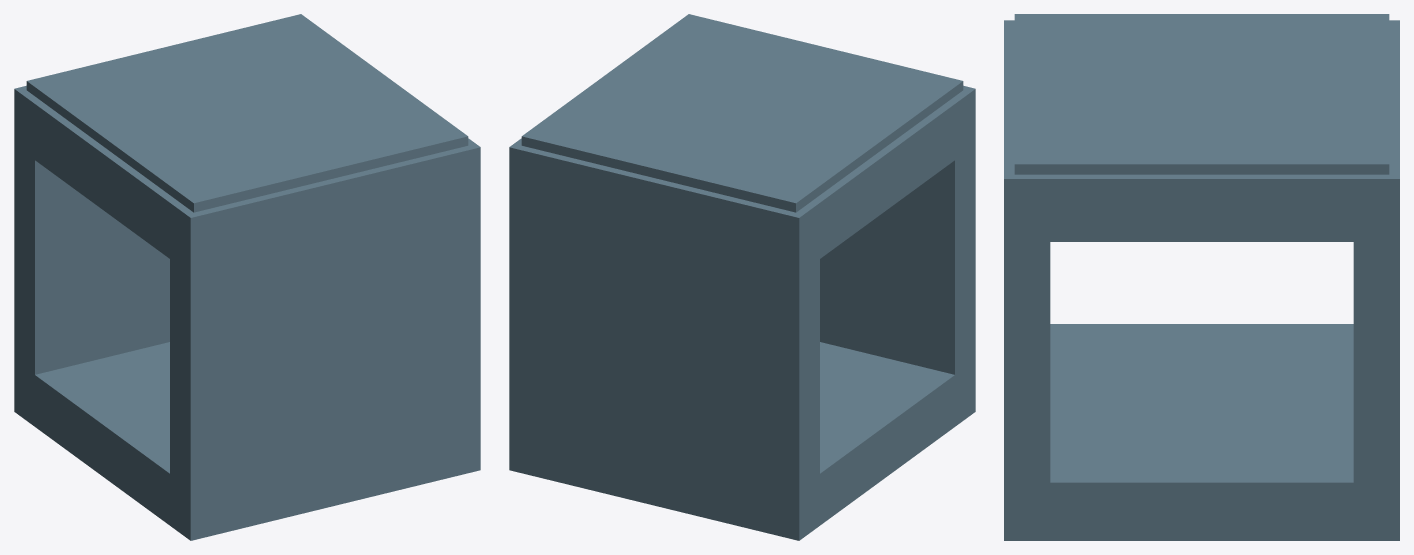
Rendered from Box_Converter.fbx.
3 renders of one model, left to right at view 1: azimuth 30°, elevation 25°; view 2: azimuth 150°, elevation 25°; view 3: azimuth 270°, elevation 25°, orthographic. The views are drawn at different scales.
Visible parts, largest first — view 1: Box_converter; view 2: Box_converter; view 3: Box_converter.
Part boxes in pixels (left/top/right/bottom): Box_converter: left=14, top=14, right=480, bottom=540; Box_converter: left=509, top=14, right=975, bottom=540; Box_converter: left=1004, top=14, right=1399, bottom=540.
Size of the model in its own units: 5.18 by 5.68 by 5.47.
